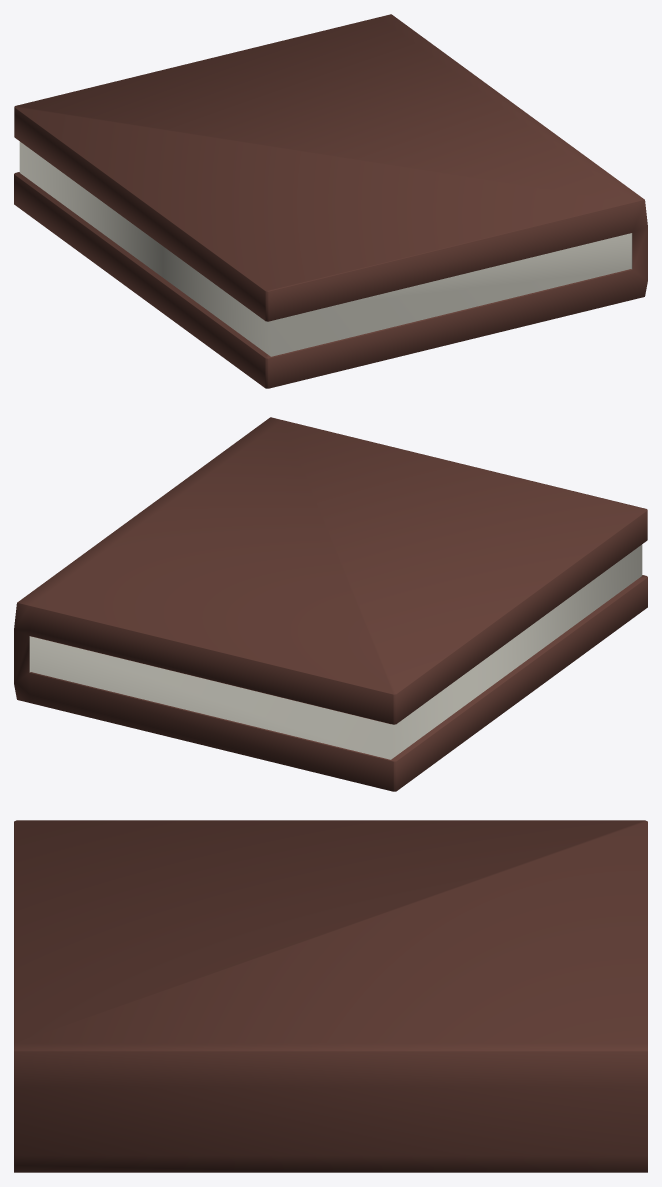
File: Red Book Closed.fbx
3 views of the same model, one above another, from view 1: azimuth 30°, elevation 25°; view 2: azimuth 150°, elevation 25°; view 3: azimuth 270°, elevation 25° (orthographic). The views are drawn at different scales.
Parts seen in each view (by area): view 1: Cover, Red Book Closed; view 2: Cover, Red Book Closed; view 3: Cover.
Boxes of the visible parts, x1,y1,x2,y2 form: Cover: (14, 14, 647, 388); Red Book Closed: (19, 141, 632, 356); Cover: (14, 417, 647, 791); Red Book Closed: (29, 544, 642, 759); Cover: (14, 820, 647, 1172).
Bounding box in the file's own units: 239 × 58.23 × 275.
